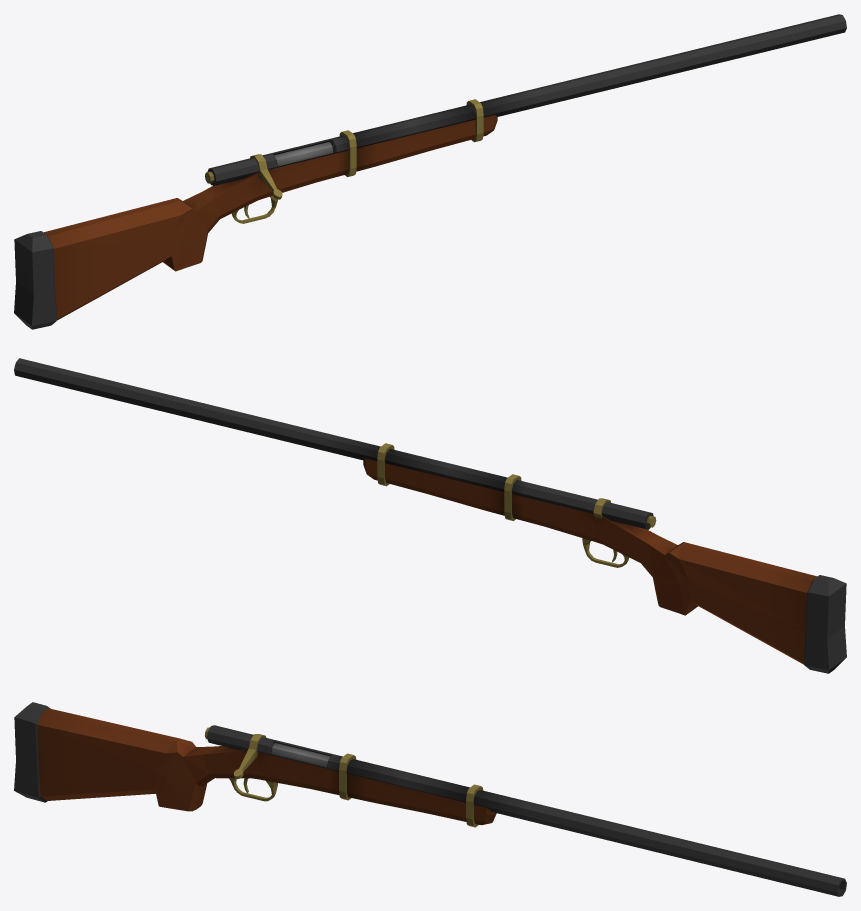
File: v-boltaction-rifles-a-long.glb
3 renders of one model, top to bottom at view 1: azimuth 30°, elevation 25°; view 2: azimuth 150°, elevation 25°; view 3: azimuth 330°, elevation 25°, orthographic.
Parts seen in each view (by area): view 1: front (×2), stock (×2), receiver (×4), grip; view 2: front (×2), stock (×2), receiver (×3), grip; view 3: front (×3), receiver (×4), stock (×2), grip.
Part boxes in pixels (left/top/right/bottom): front (×2): left=353, top=14, right=846, bottom=171; stock (×2): left=14, top=209, right=142, bottom=329; receiver (×4): left=132, top=131, right=353, bottom=275; grip: left=155, top=218, right=184, bottom=271; front (×2): left=14, top=358, right=507, bottom=515; stock (×2): left=718, top=553, right=846, bottom=673; receiver (×3): left=507, top=475, right=728, bottom=619; grip: left=676, top=562, right=706, bottom=615; front (×3): left=342, top=754, right=846, bottom=896; receiver (×4): left=126, top=725, right=350, bottom=811; stock (×2): left=14, top=702, right=136, bottom=802; grip: left=142, top=751, right=168, bottom=808.
Size of the model in its own units: 1.32 by 0.1811 by 0.0873.
